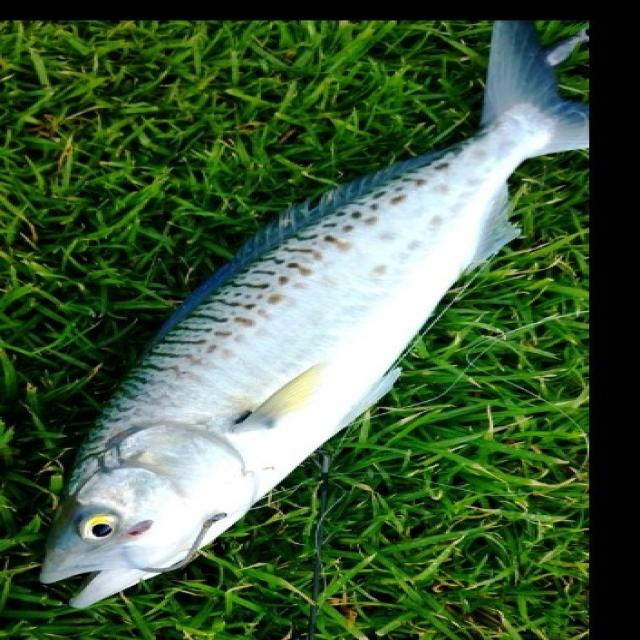Australian Salmon: (23, 0, 640, 620)
